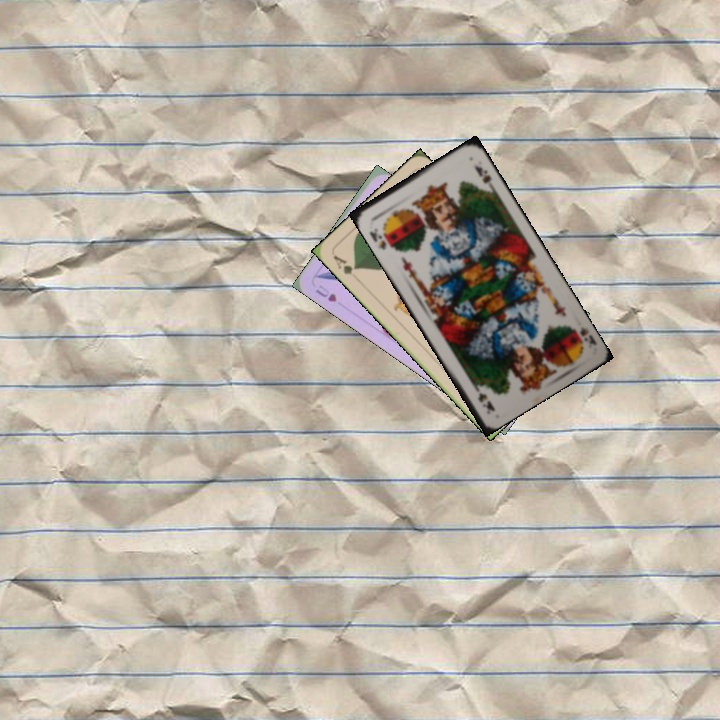GA: (329, 251, 359, 277)
HU: (311, 280, 339, 304)
SK: (365, 224, 389, 252), (576, 323, 599, 348)
